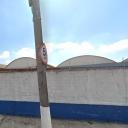speed_limit_50: (39, 42, 48, 64)
